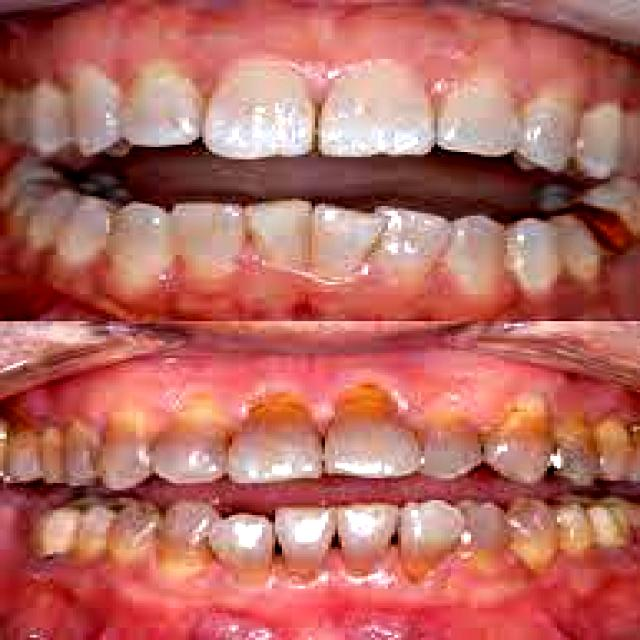tooth-discoloration: (36, 498, 637, 584), (3, 405, 637, 486)
